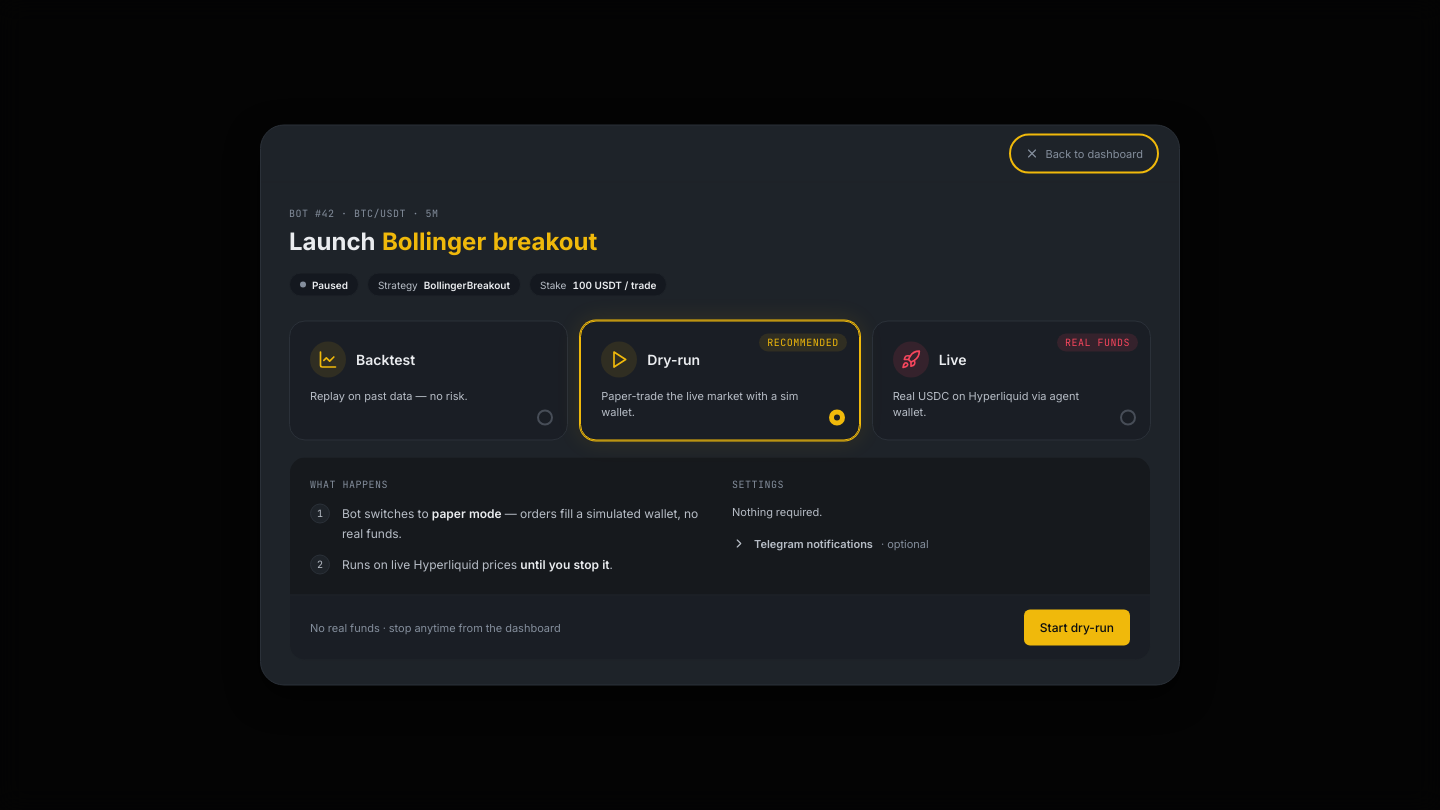
Test: LaunchpadModal › switching mode swaps the detail panel and the action button
Click the radio button labelled "Backtest Replay on past data — no risk." at {"x": 328, "y": 360}, box [289,320,568,440]
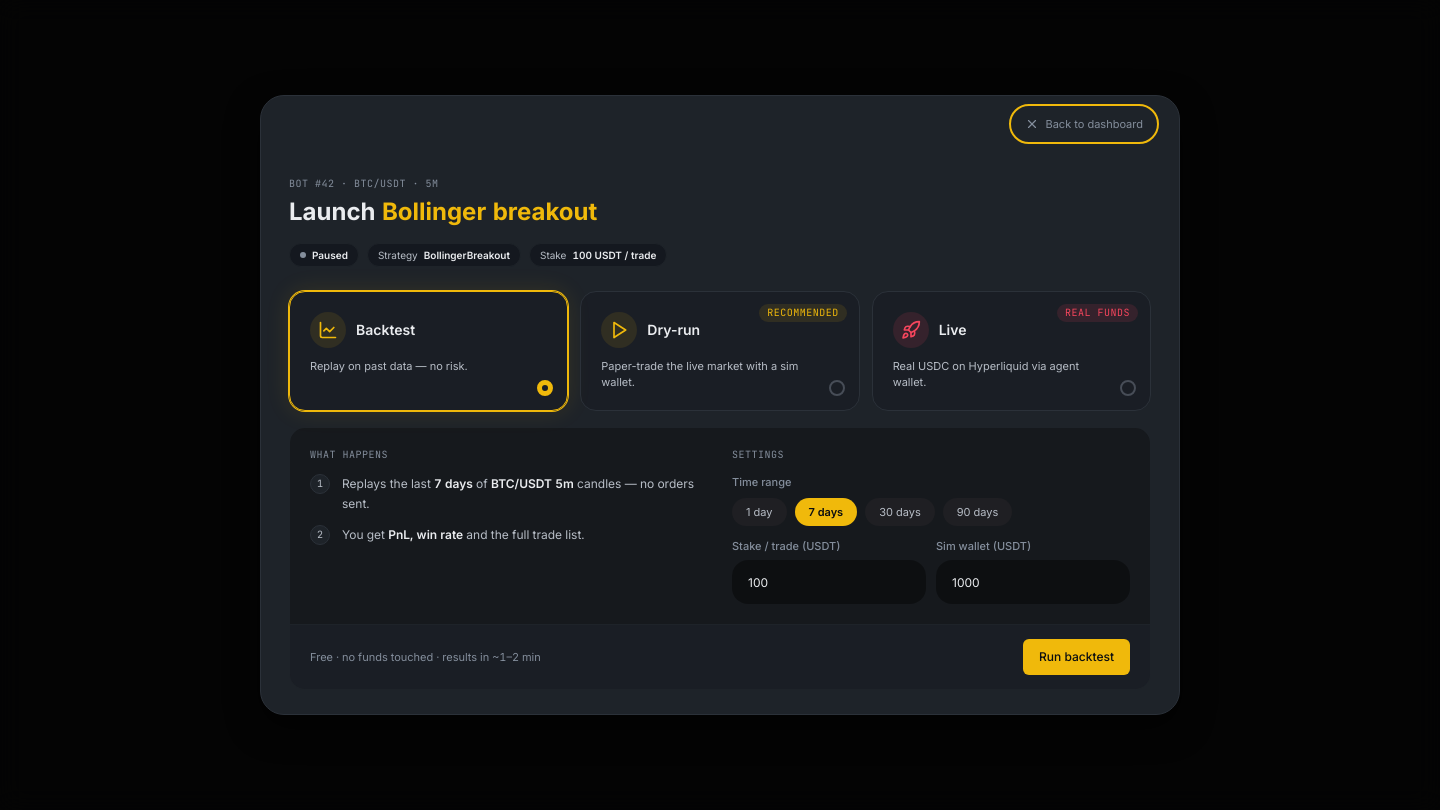
expect the button "Run backtest" is shown: met, box [1023,639,1130,675]
expect the button "7 days" is shown: met, box [794,498,857,526]
Click the radio button labelled "Real funds Live Real USDC on Hyperliquid via agent wallet." at {"x": 1098, "y": 313}, box [872,291,1151,411]
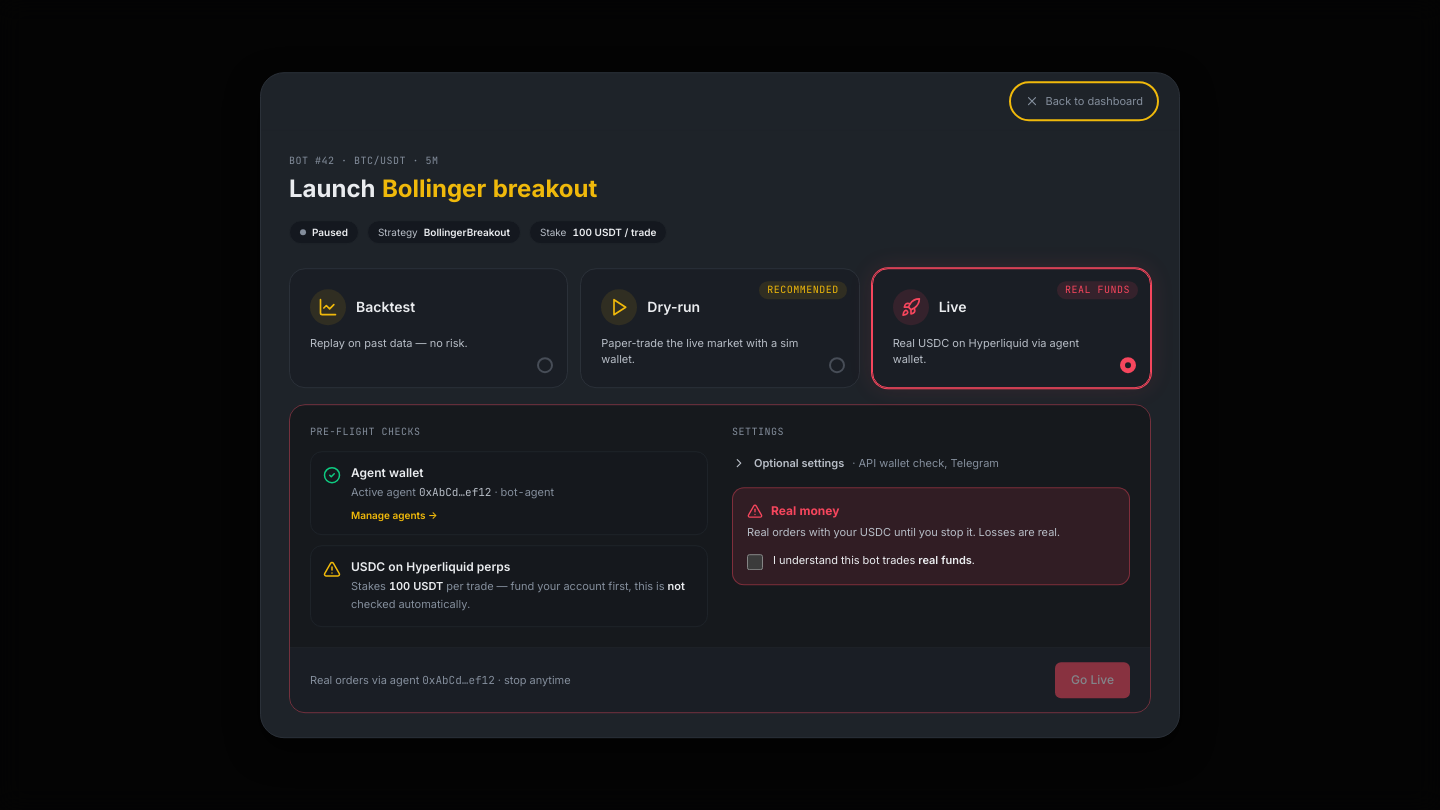
expect the button "Go Live" is shown: met, box [1055,662,1130,698]
expect the text "Pre-flight checks" is shown: met, box [310,425,420,438]
